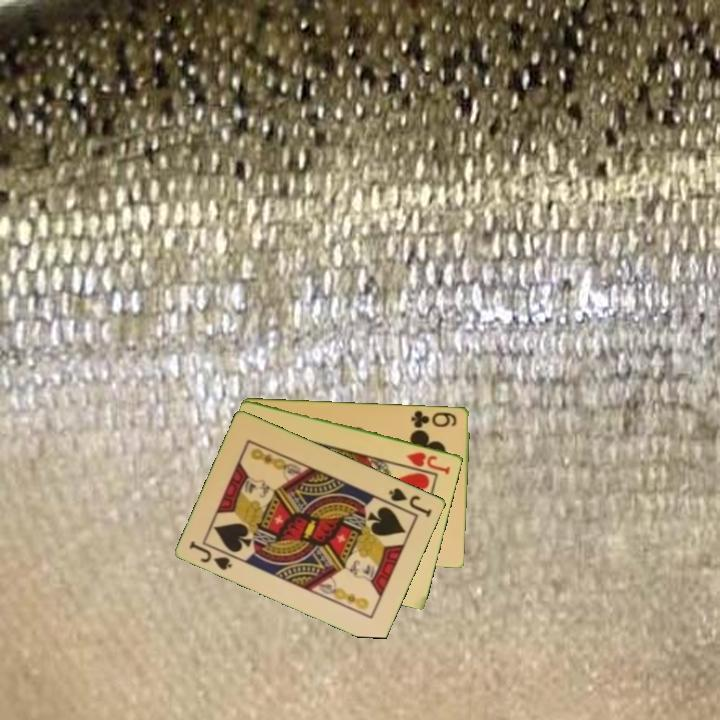6c: (408, 407, 460, 431)
Jh: (403, 448, 453, 477)
Js: (186, 537, 236, 573), (386, 484, 435, 520)
